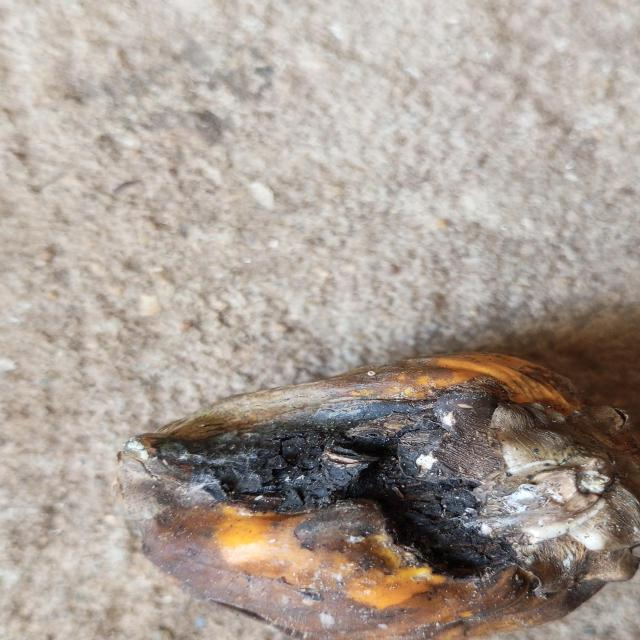damaged: (119, 355, 640, 640)
